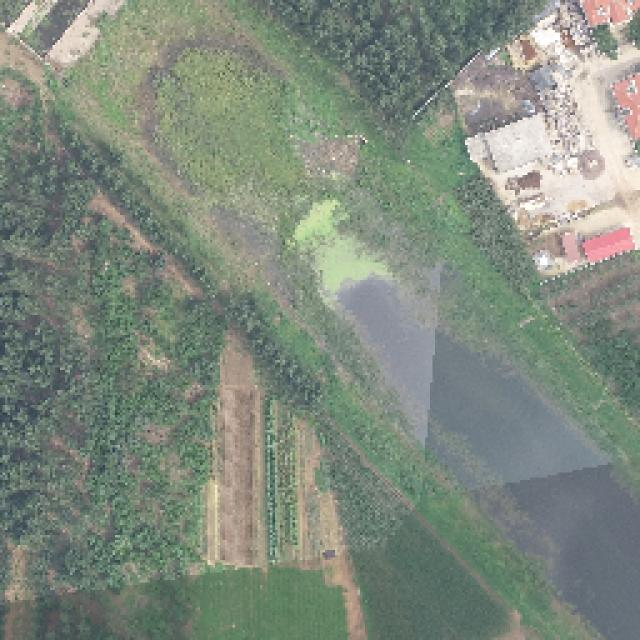Batiment: (612, 74, 639, 139), (584, 228, 633, 263), (582, 0, 640, 26), (505, 171, 540, 194), (529, 65, 556, 91)
